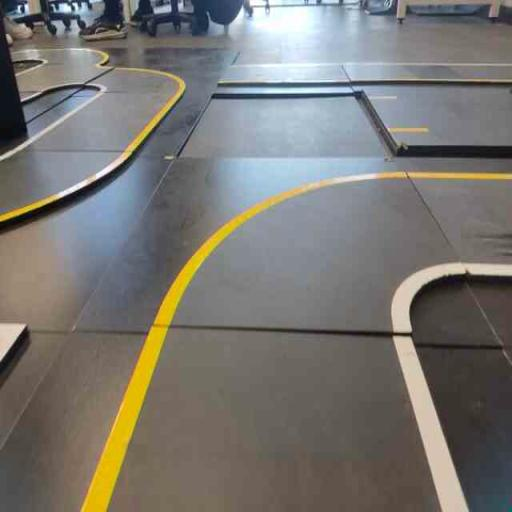straight: (75, 328, 475, 511)
